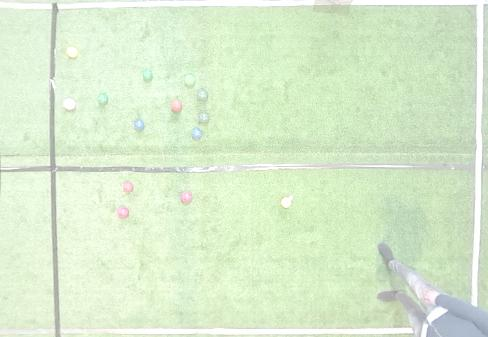blue: (191, 127, 202, 140), (134, 119, 145, 131)
green: (198, 112, 210, 123), (184, 74, 195, 86), (197, 90, 208, 101), (98, 94, 108, 105), (143, 70, 152, 80)
red: (63, 98, 76, 110), (170, 100, 182, 112), (117, 207, 129, 218), (181, 192, 192, 203), (123, 182, 133, 192)
vline: (1, 1, 62, 336), (470, 1, 487, 307)
white: (289, 195, 293, 200)
yellow: (66, 47, 78, 58), (281, 197, 291, 208)
